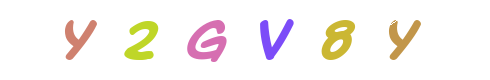2: (195, 0, 275, 80)
8: (208, 0, 288, 80)
G: (200, 0, 280, 80)
V: (205, 0, 285, 80)
Y: (168, 0, 248, 80), (233, 0, 313, 80)
